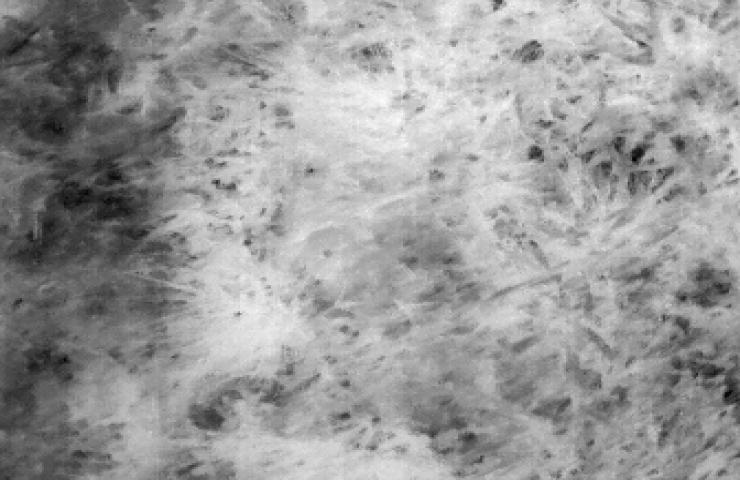landmines: (291, 221, 368, 285)
